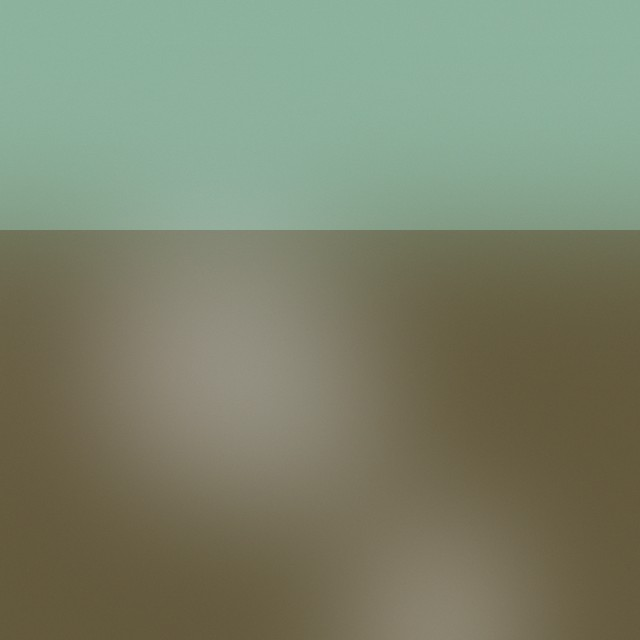smoke: (179, 335, 453, 609)
